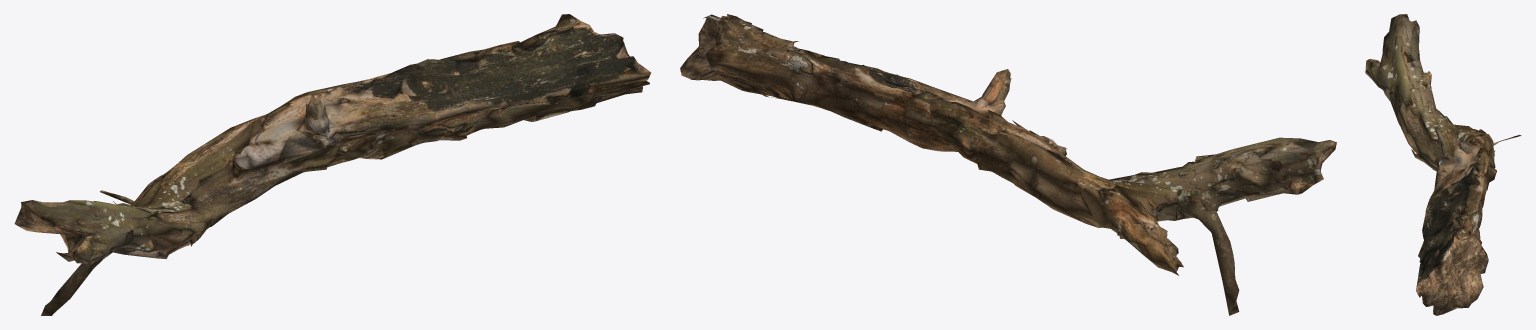
The model's file is dead_tree_trunk_02.glb.
3 renders of one model, left to right at view 1: azimuth 30°, elevation 25°; view 2: azimuth 150°, elevation 25°; view 3: azimuth 270°, elevation 25°, orthographic. The views are drawn at different scales.
Visible parts, largest first — view 1: dead_tree_trunk_02; view 2: dead_tree_trunk_02; view 3: dead_tree_trunk_02.
Boxes of the visible parts, <box> form: dead_tree_trunk_02: <box>14,14,651,315</box>; dead_tree_trunk_02: <box>680,14,1336,315</box>; dead_tree_trunk_02: <box>1365,14,1521,315</box>.
Bounding box in the file's own units: 4.05 × 1.05 × 1.05.
1 material, 1 textured.
